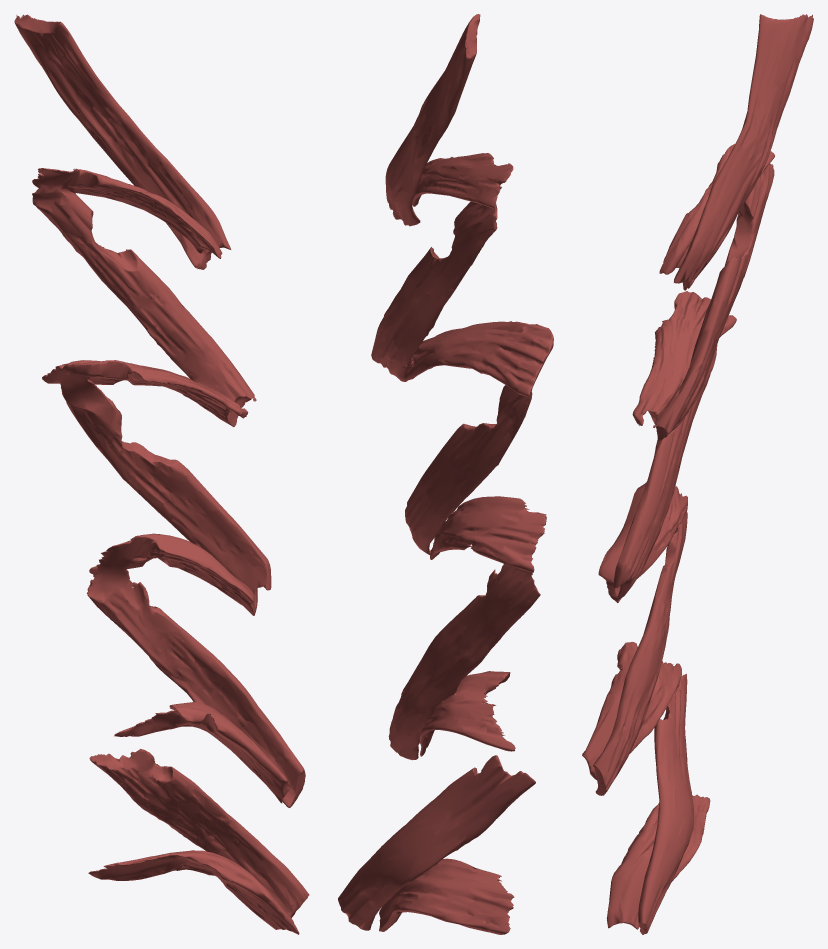
The model's file is FMA23090.glb.
3 renders of one model, left to right at view 1: azimuth 30°, elevation 25°; view 2: azimuth 150°, elevation 25°; view 3: azimuth 270°, elevation 25°, orthographic. The views are drawn at different scales.
Visible parts, largest first — view 1: FMA23090; view 2: FMA23090; view 3: FMA23090.
Part boxes in pixels (box(x1,y1,x2,y2)): FMA23090: box(14, 14, 309, 934); FMA23090: box(338, 14, 553, 934); FMA23090: box(582, 14, 813, 934).
Size of the model in its own units: 0.0391 by 0.1535 by 0.0382.
